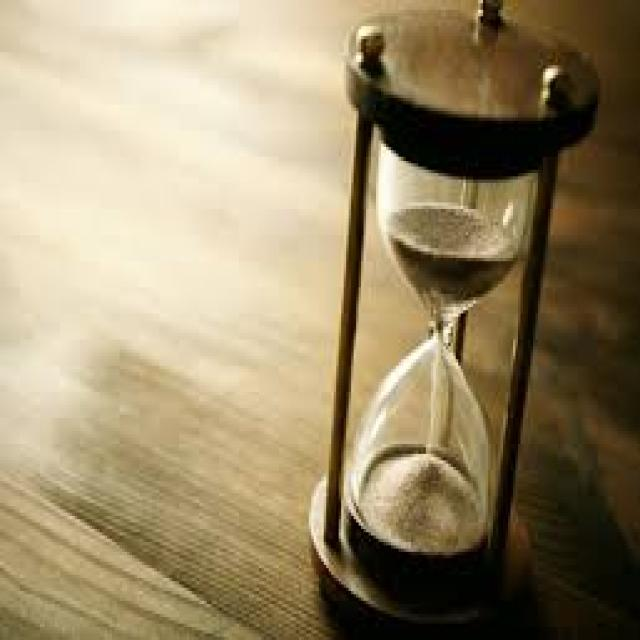clock: (331, 13, 554, 609)
